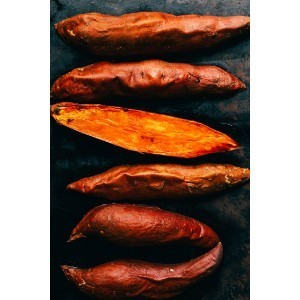sweet potato_brain food: (61, 206, 216, 256), (60, 59, 232, 97), (76, 110, 218, 153), (65, 13, 227, 46)
